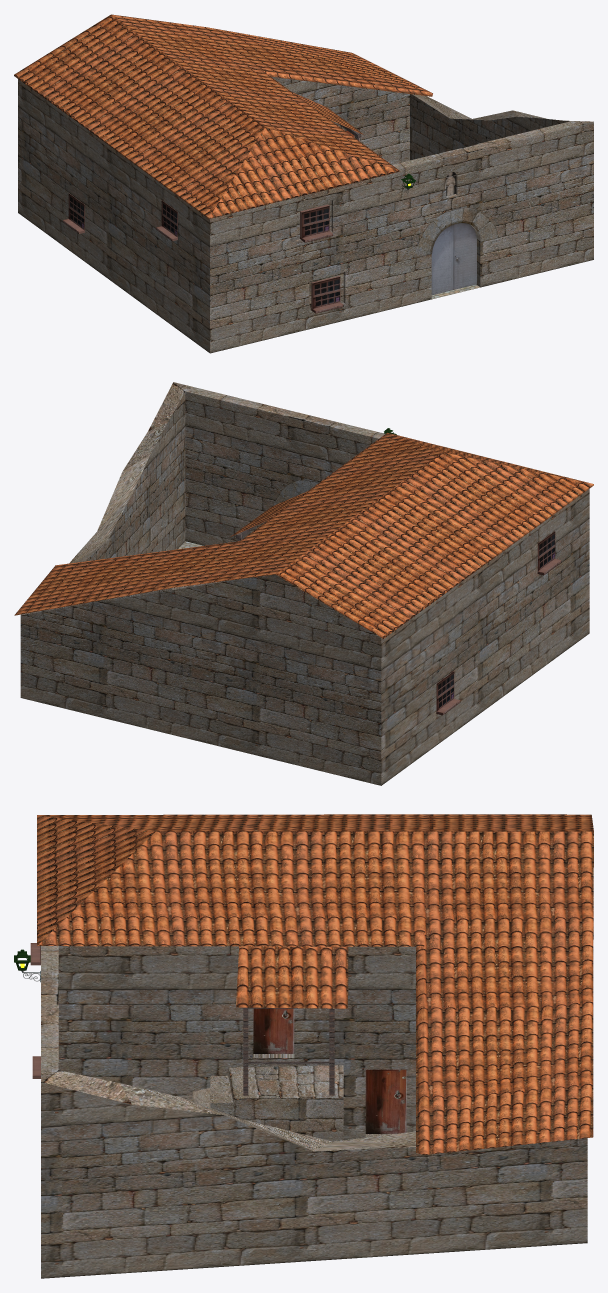
The model's file is albergaria.glb.
The picture shows the model from 3 angles, top to bottom: view 1: azimuth 30°, elevation 25°; view 2: azimuth 150°, elevation 25°; view 3: azimuth 270°, elevation 25°; orthographic projection. The views are drawn at different scales.
Visible parts, largest first — view 1: Cube, Cube.003, porta, entrada, janela.001, janela.002, janela.003, janela.004, Cube.001; view 2: Cube, Cube.003, janela.004, janela.003; view 3: Cube, Cube.003, Cube.006, Cube.001, porta2.002, porta2, varanda.002.
Part boxes in pixels (left/top/right/bottom): Cube: left=18, top=76, right=593, bottom=353; Cube.003: left=14, top=14, right=432, bottom=218; porta: left=431, top=223, right=476, bottom=295; entrada: left=413, top=207, right=498, bottom=258; janela.001: left=300, top=204, right=332, bottom=242; janela.002: left=311, top=276, right=343, bottom=313; janela.003: left=156, top=200, right=177, bottom=241; janela.004: left=63, top=193, right=84, bottom=233; Cube.001: left=292, top=92, right=364, bottom=135; Cube: left=20, top=382, right=589, bottom=785; Cube.003: left=14, top=432, right=593, bottom=639; janela.004: left=436, top=671, right=460, bottom=715; janela.003: left=537, top=531, right=561, bottom=575; Cube: left=41, top=946, right=587, bottom=1278; Cube.003: left=37, top=814, right=593, bottom=1154; Cube.006: left=189, top=1065, right=343, bottom=1141; Cube.001: left=236, top=946, right=348, bottom=1008; porta2.002: left=365, top=1069, right=406, bottom=1133; porta2: left=253, top=1008, right=294, bottom=1053; varanda.002: left=241, top=1007, right=334, bottom=1095.
Size of the model in its own units: 15.23 by 6.48 by 13.8.
Materials: 14 (11 with a texture image).
